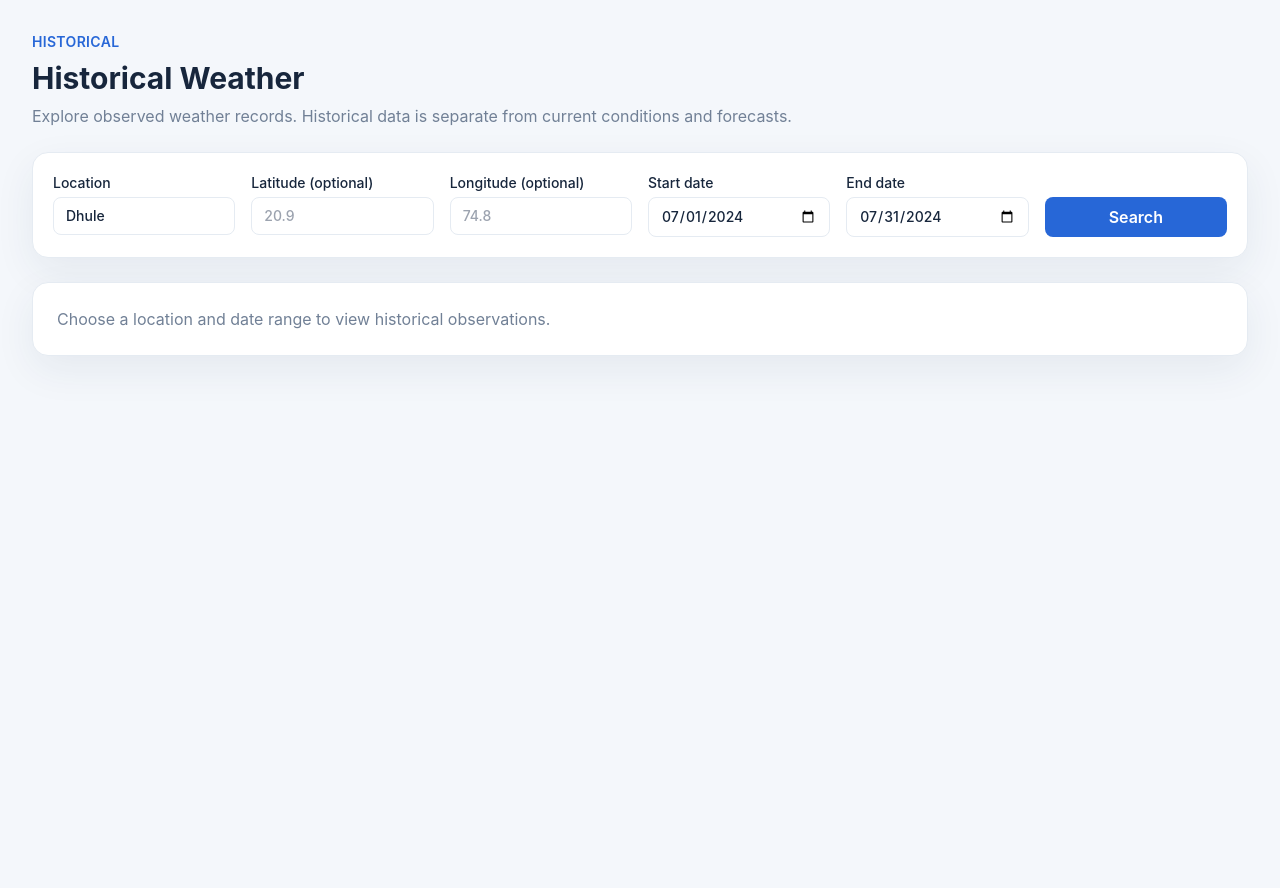
Test: Historical page › renders observed summaries, separate climatology normals, anomaly and descriptive trend
Click the button "Search". click: (1136, 217)
box: [1045,197,1227,237]
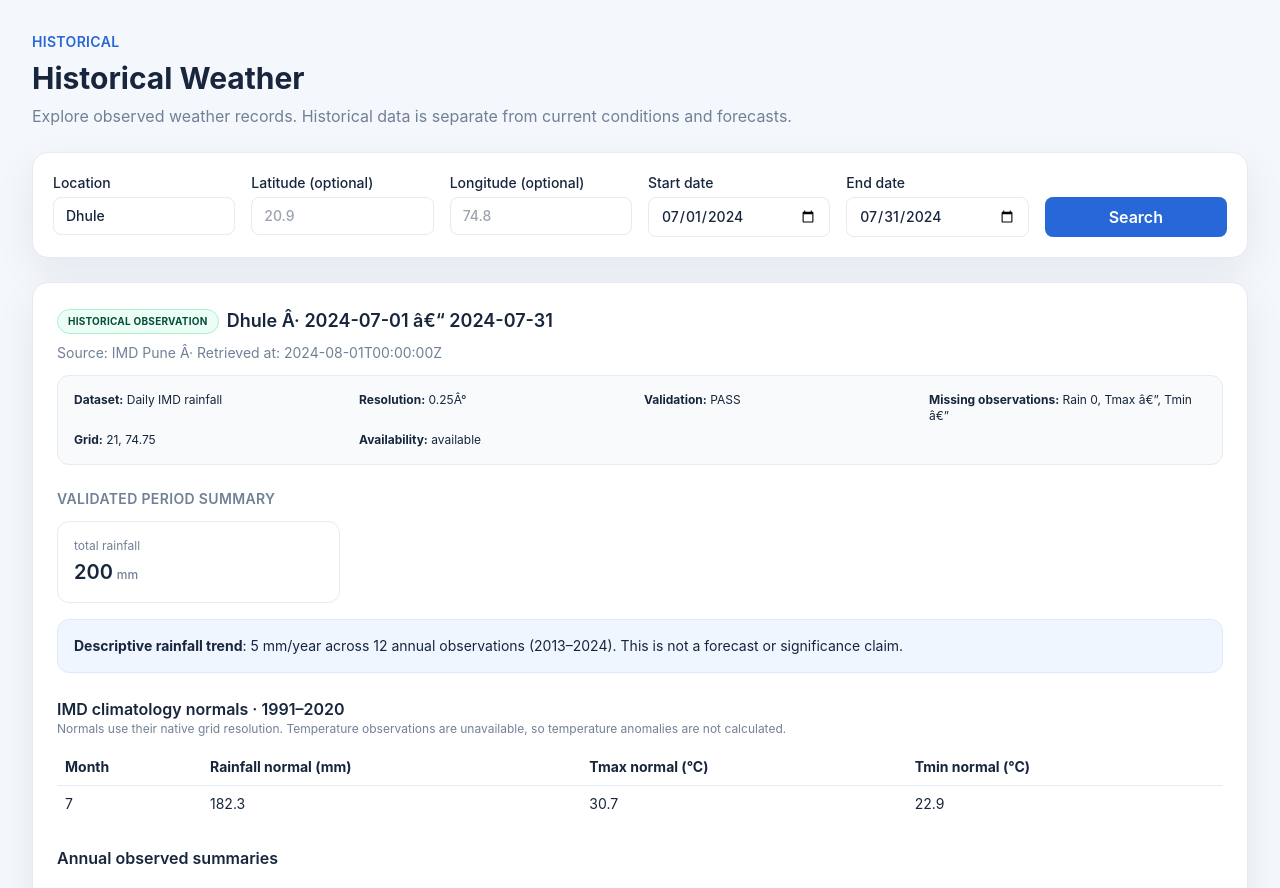
Check: the heading "IMD climatology normals · 1991–2020" is shown, box [57,699,344,719]
Check: the heading "Annual observed summaries" is shown, box [57,848,278,868]
Check: the text "5 mm/year" is shown, box [250,637,903,654]
